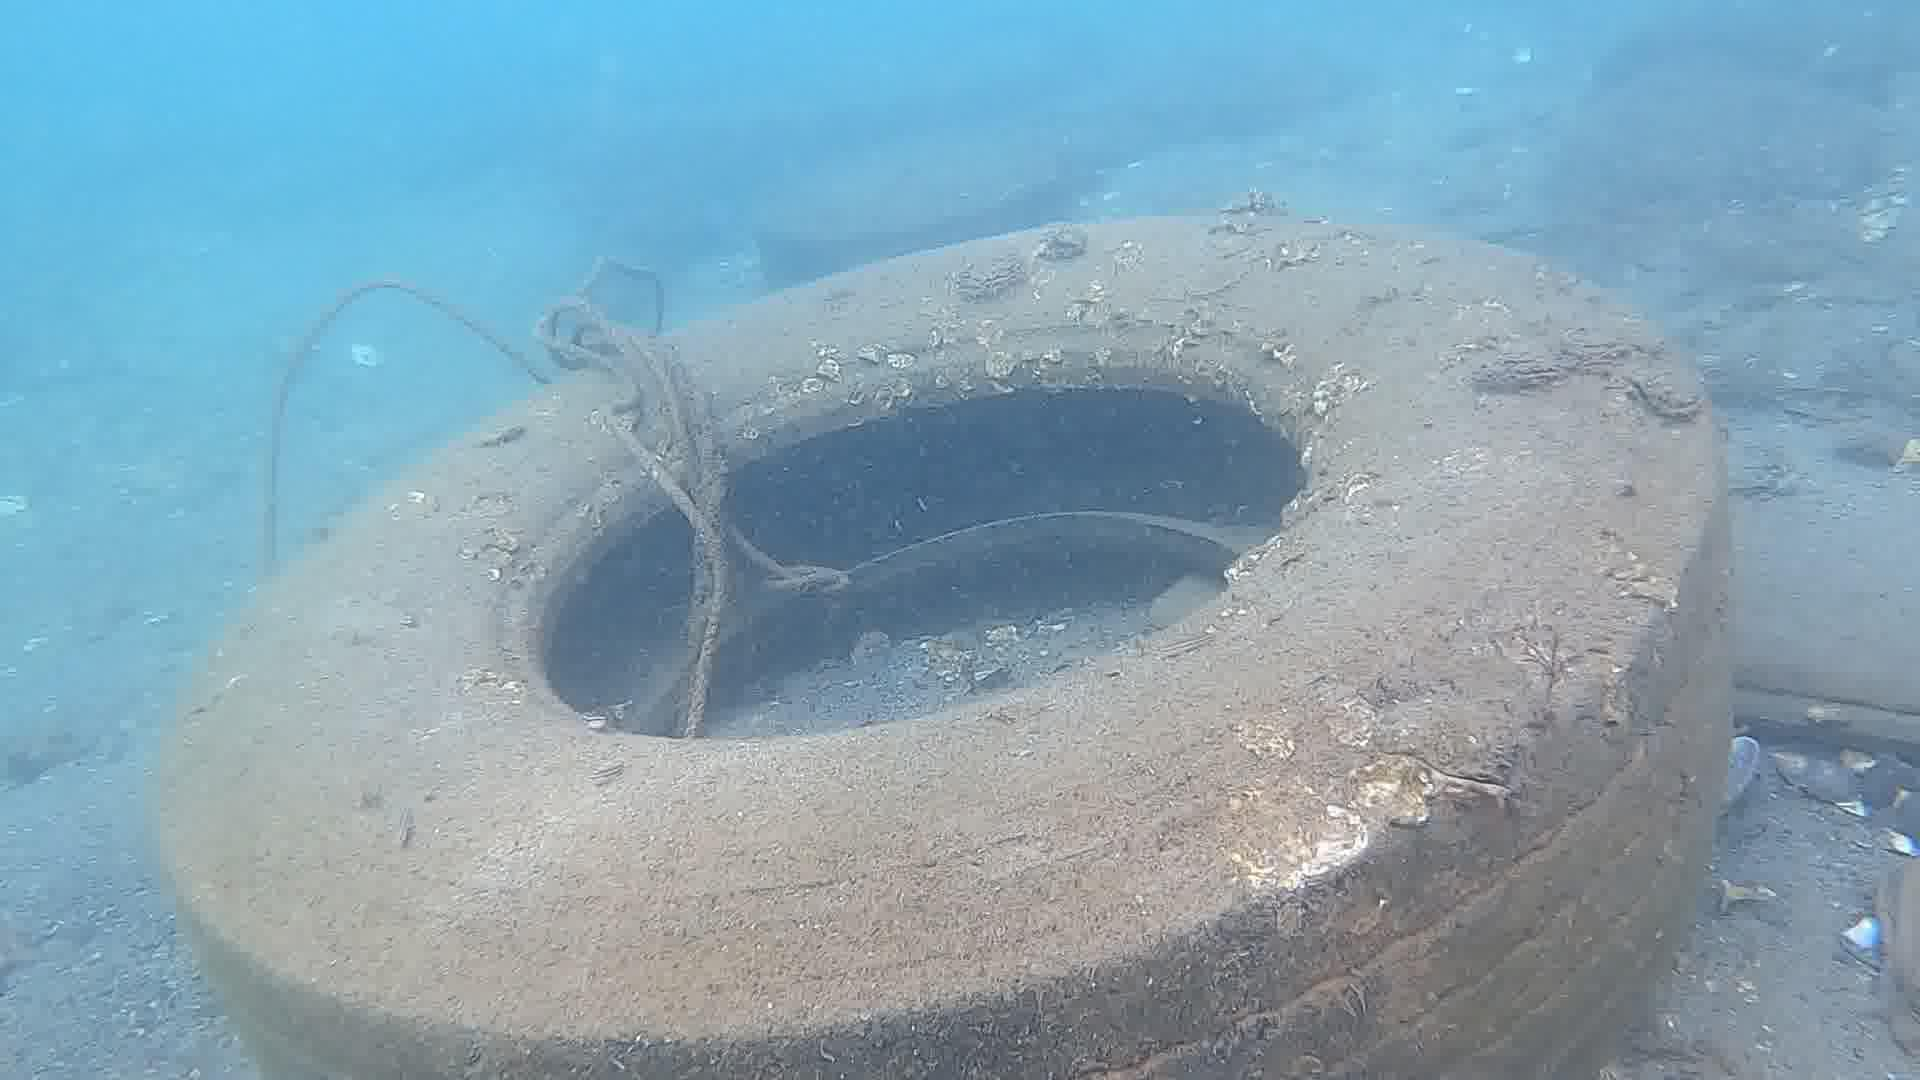bundle of ropes: (261, 256, 847, 732)
tire: (149, 202, 1735, 1080)
